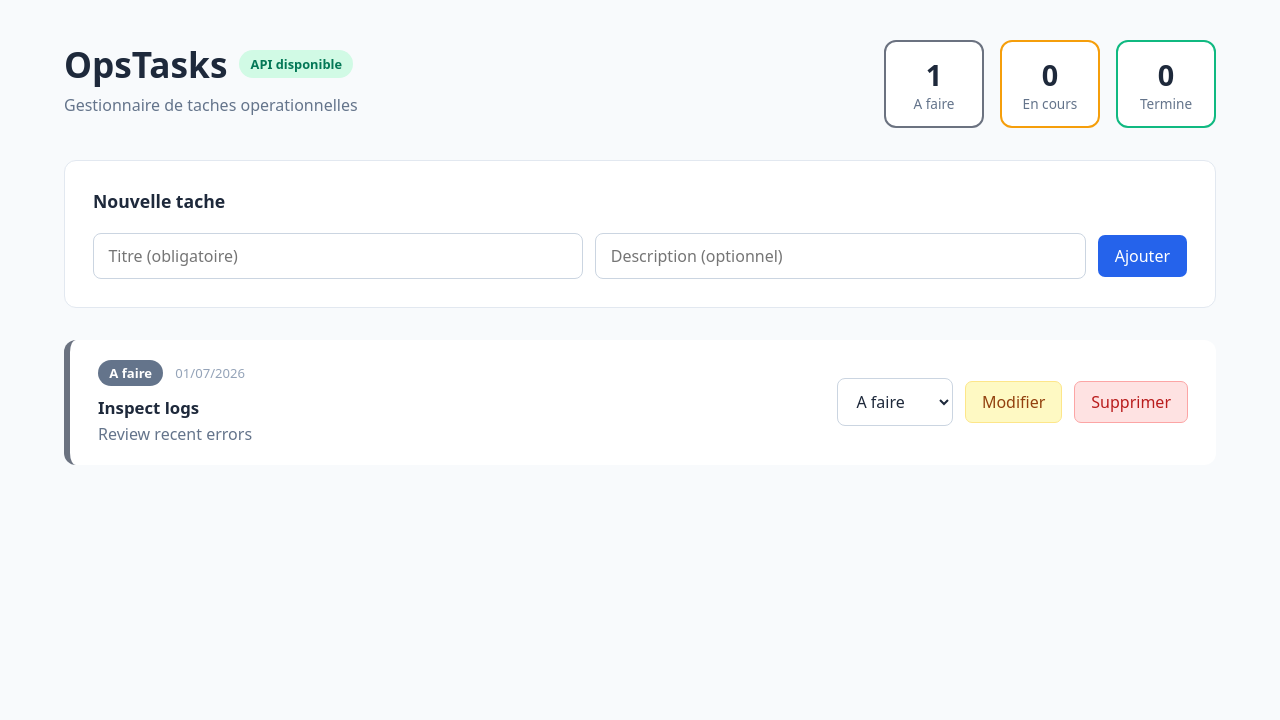
Test case: OpsTasks interface › shows client and API validation feedback
The image size is (1280, 720).
Click the button "Ajouter": {"x": 1142, "y": 256} x1=1098 y1=235 x2=1187 y2=277
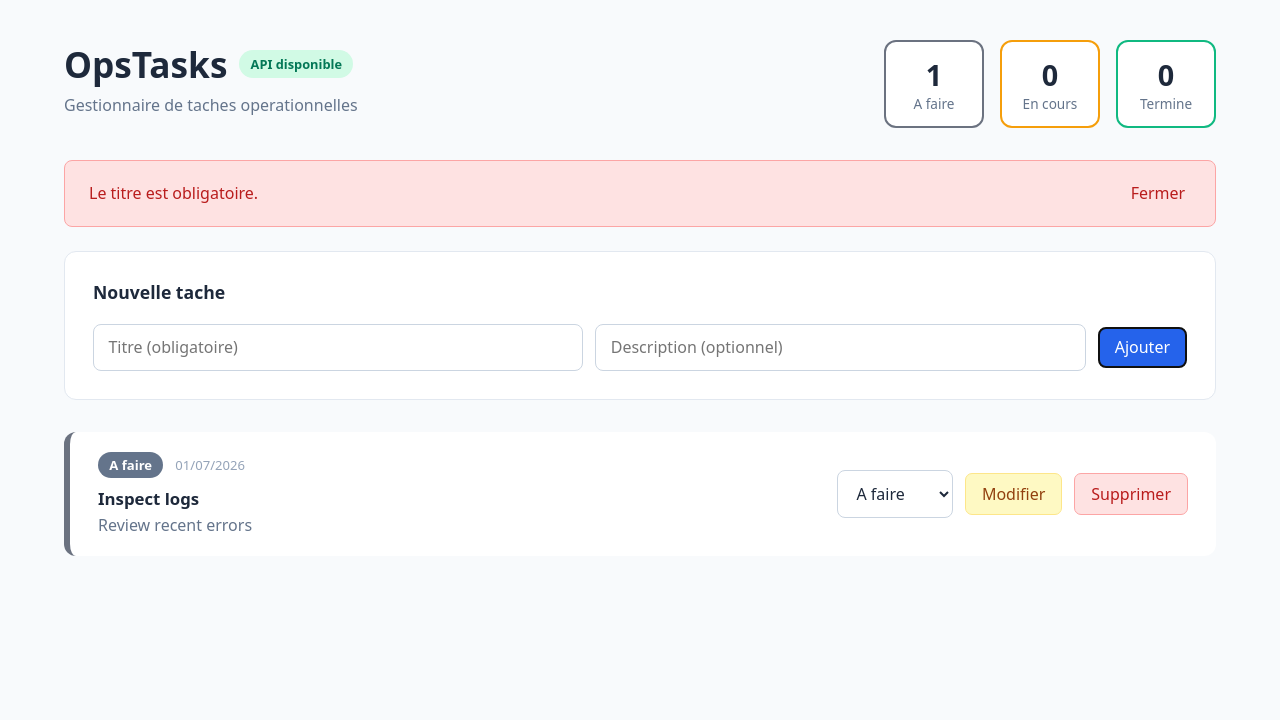
Now the message "Le titre est obligatoire. Fermer" is shown, box x1=64 y1=160 x2=1216 y2=227
Click the button "Supprimer": {"x": 1131, "y": 494} x1=1074 y1=473 x2=1188 y2=515
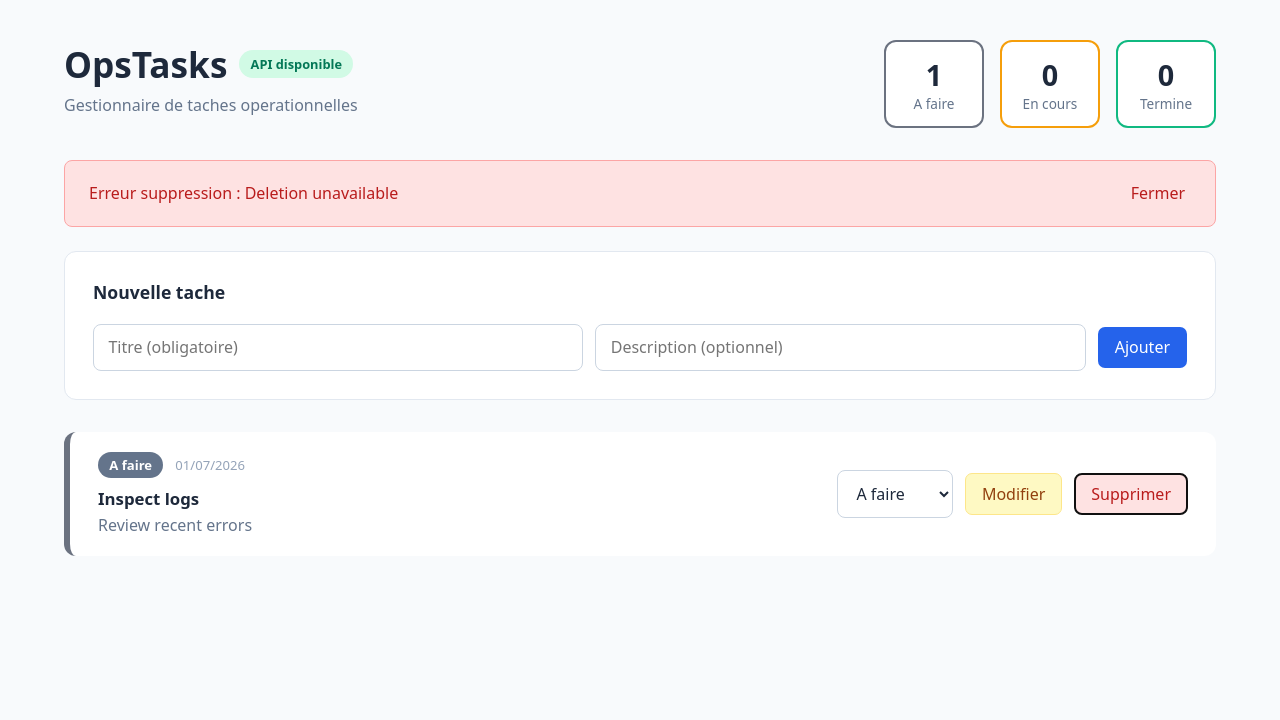
Now the message "Erreur suppression : Deletion unavailable Fermer" is shown, box x1=64 y1=160 x2=1216 y2=227
